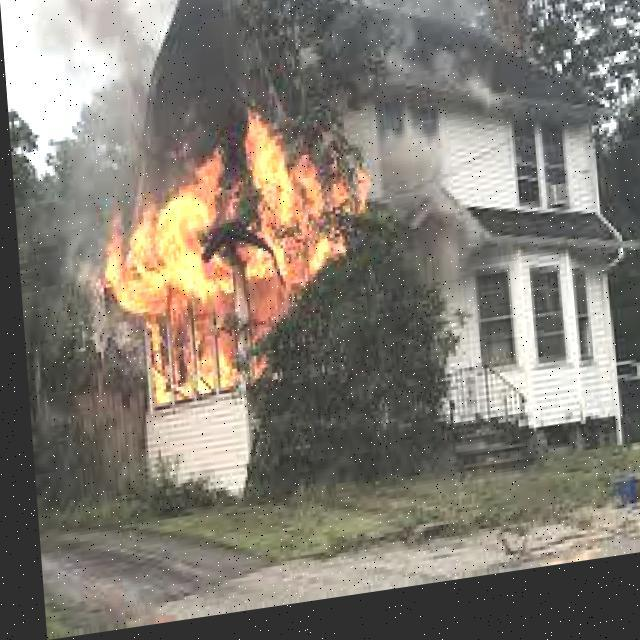Fire: (82, 138, 369, 434)
